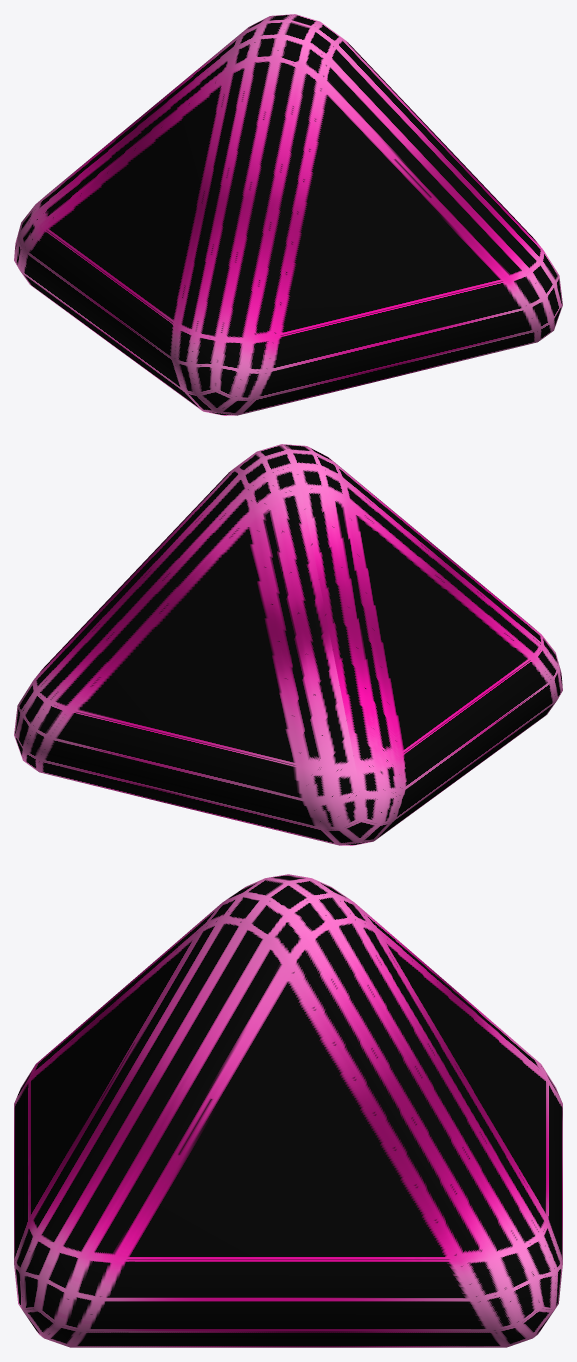
3 views of the same model, one above another, from view 1: azimuth 30°, elevation 25°; view 2: azimuth 150°, elevation 25°; view 3: azimuth 270°, elevation 25° (orthographic). The views are drawn at different scales.
Visible parts, largest first — view 1: pPyramid1; view 2: pPyramid1; view 3: pPyramid1.
Part boxes in pixels (box(x1,y1,x2,y2)): pPyramid1: box(14, 14, 562, 415); pPyramid1: box(14, 444, 562, 845); pPyramid1: box(14, 874, 562, 1347).
Bounding box in the file's own units: 82.69 × 61.59 × 82.69.
1 material, 1 textured.
